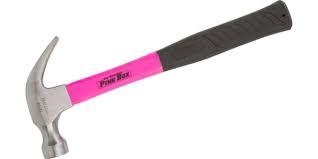hammer: (23, 0, 291, 158)
